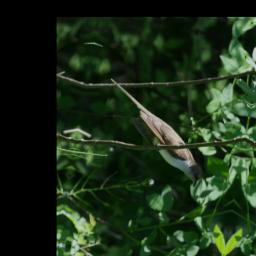Cuckoo: (92, 77, 217, 188)
